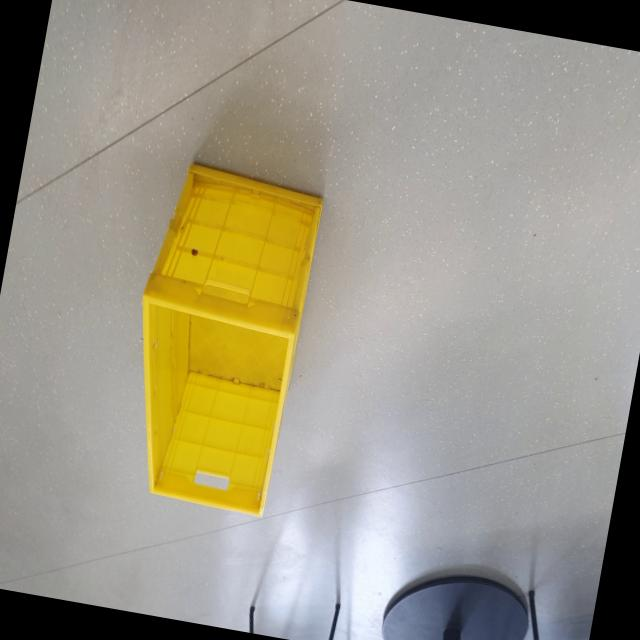box: (99, 154, 334, 528)
